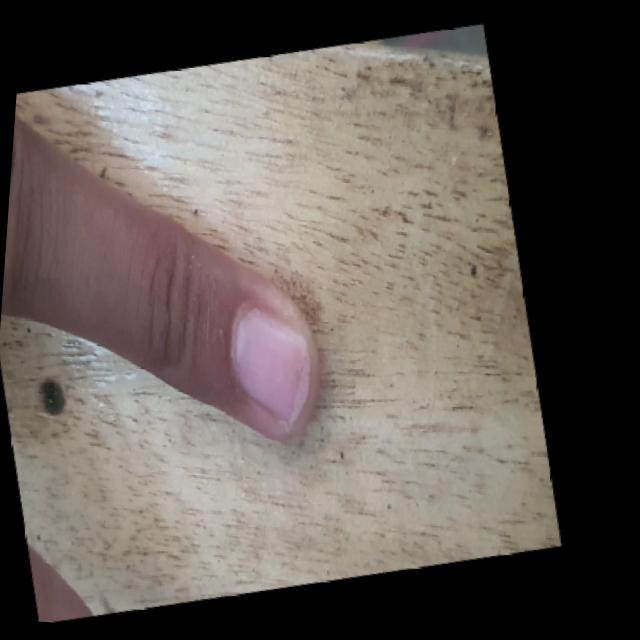Nail: (230, 308, 310, 420)
